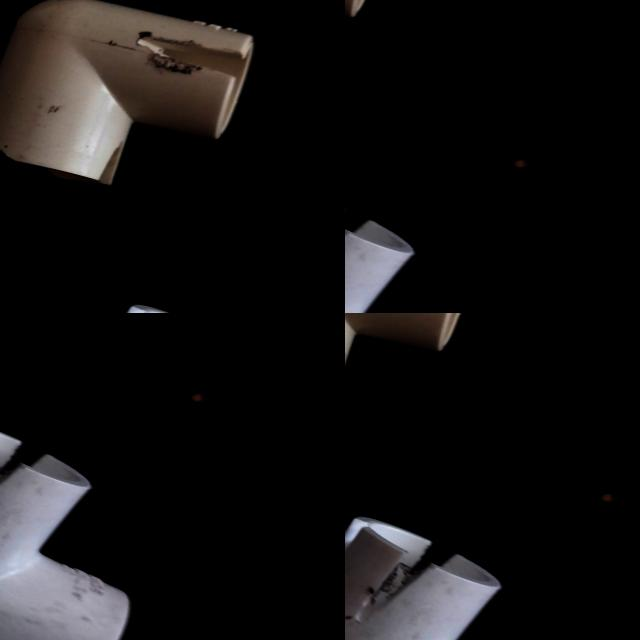Defective: (367, 521, 466, 611), (345, 335, 414, 408), (36, 22, 46, 44)
L Joint: (345, 520, 552, 640), (345, 313, 492, 400)
T Joint: (18, 0, 57, 54)
